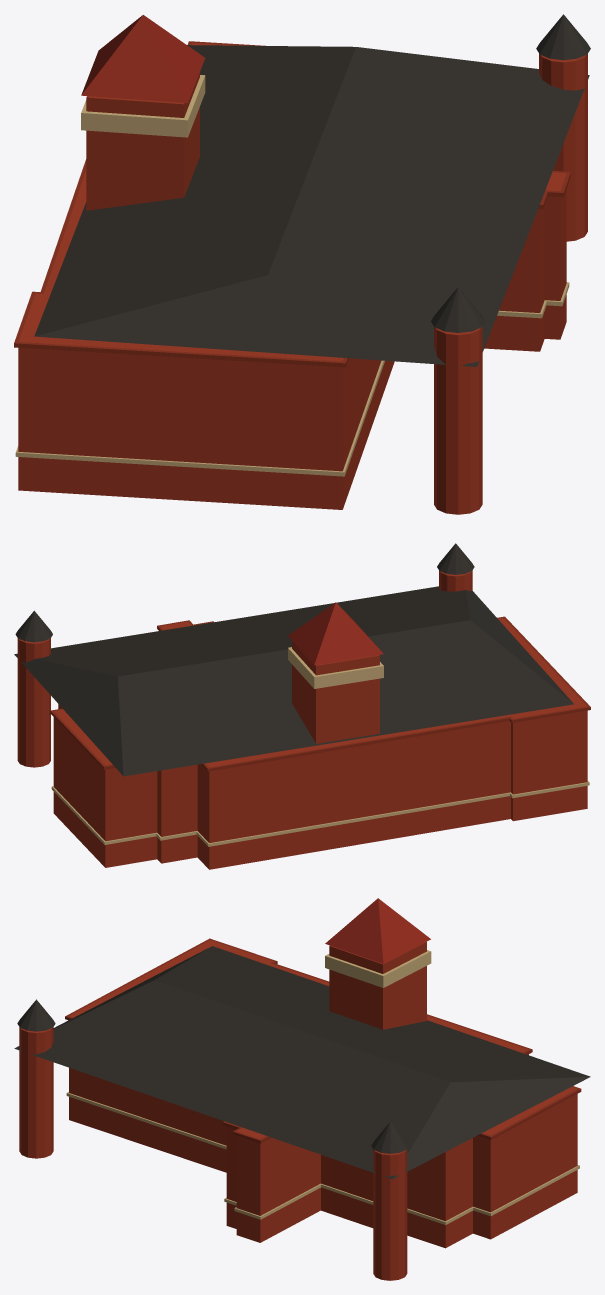
File: the-jefferson-hotel.glb
3 renders of one model, top to bottom at view 1: azimuth 30°, elevation 25°; view 2: azimuth 150°, elevation 25°; view 3: azimuth 270°, elevation 25°, orthographic. The views are drawn at different scales.
Visible parts, largest first — view 1: the-jefferson-hotel_3, body, tower, the-jefferson-hotel_7, the-jefferson-hotel_6, the-jefferson-hotel_9, the-jefferson-hotel_1, the-jefferson-hotel_2, the-jefferson-hotel_5, the-jefferson-hotel_10, the-jefferson-hotel_8; view 2: body, the-jefferson-hotel_3, tower, the-jefferson-hotel_9, the-jefferson-hotel_6, the-jefferson-hotel_1, the-jefferson-hotel_2, the-jefferson-hotel_5, the-jefferson-hotel_10, the-jefferson-hotel_8, the-jefferson-hotel_7; view 3: the-jefferson-hotel_3, body, tower, the-jefferson-hotel_9, the-jefferson-hotel_7, the-jefferson-hotel_6, the-jefferson-hotel_2, the-jefferson-hotel_1, the-jefferson-hotel_5, the-jefferson-hotel_8, the-jefferson-hotel_10.
Part boxes in pixels (x1=…): the-jefferson-hotel_3: x1=34, y1=45, x2=589, y2=366; body: x1=18, y1=43, x2=566, y2=509; tower: x1=86, y1=72, x2=199, y2=210; the-jefferson-hotel_7: x1=434, y1=327, x2=482, y2=514; the-jefferson-hotel_6: x1=81, y1=15, x2=204, y2=102; the-jefferson-hotel_9: x1=539, y1=54, x2=587, y2=241; the-jefferson-hotel_1: x1=14, y1=41, x2=570, y2=367; the-jefferson-hotel_2: x1=15, y1=282, x2=569, y2=476; the-jefferson-hotel_5: x1=81, y1=75, x2=205, y2=137; the-jefferson-hotel_10: x1=536, y1=14, x2=590, y2=60; the-jefferson-hotel_8: x1=431, y1=287, x2=485, y2=332; body: x1=53, y1=618, x2=587, y2=869; the-jefferson-hotel_3: x1=14, y1=586, x2=573, y2=776; tower: x1=292, y1=641, x2=379, y2=743; the-jefferson-hotel_9: x1=17, y1=638, x2=50, y2=767; the-jefferson-hotel_6: x1=288, y1=602, x2=383, y2=665; the-jefferson-hotel_1: x1=50, y1=616, x2=590, y2=771; the-jefferson-hotel_2: x1=51, y1=781, x2=589, y2=846; the-jefferson-hotel_5: x1=288, y1=647, x2=383, y2=688; the-jefferson-hotel_10: x1=15, y1=610, x2=52, y2=642; the-jefferson-hotel_8: x1=437, y1=543, x2=474, y2=574; the-jefferson-hotel_7: x1=439, y1=570, x2=472, y2=591; the-jefferson-hotel_3: x1=14, y1=946, x2=590, y2=1179; body: x1=69, y1=940, x2=577, y2=1248; tower: x1=329, y1=942, x2=426, y2=1029; the-jefferson-hotel_9: x1=373, y1=1149, x2=407, y2=1280; the-jefferson-hotel_7: x1=19, y1=1027, x2=53, y2=1158; the-jefferson-hotel_6: x1=325, y1=898, x2=430, y2=963; the-jefferson-hotel_2: x1=66, y1=1092, x2=579, y2=1224; the-jefferson-hotel_1: x1=65, y1=938, x2=581, y2=1143; the-jefferson-hotel_5: x1=325, y1=950, x2=431, y2=987; the-jefferson-hotel_8: x1=17, y1=999, x2=55, y2=1031; the-jefferson-hotel_10: x1=371, y1=1122, x2=409, y2=1153.
Size of the model in its own units: 107 by 47.5 by 108.
